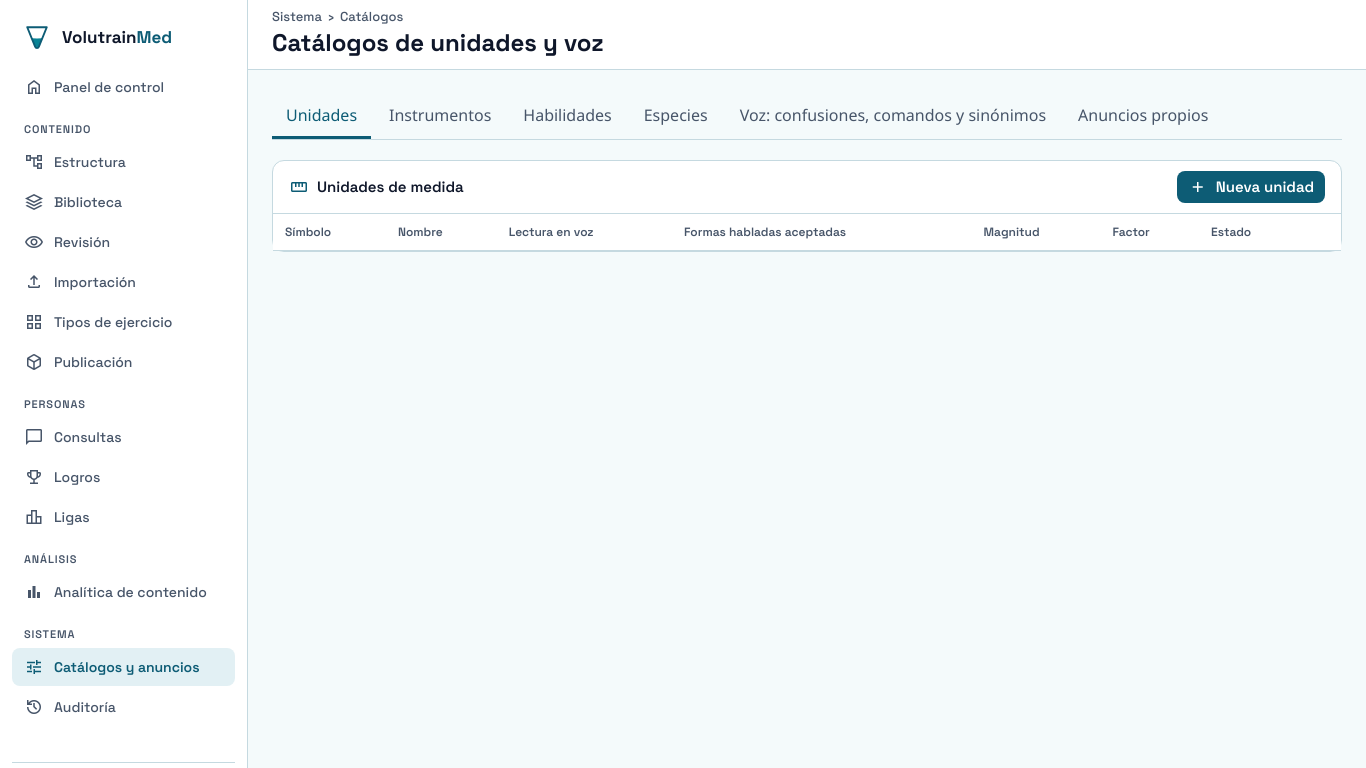
Test: B26 · catálogos de unidades y voz › Texto con alusión clínica: un anuncio que menciona pacientes o guardias no se puede guardar ni enviar a revisión
This screenshot has width=1366, height=768.
Click the tab "Anuncios propios" at (1143, 116), box [1064,94,1222,139]
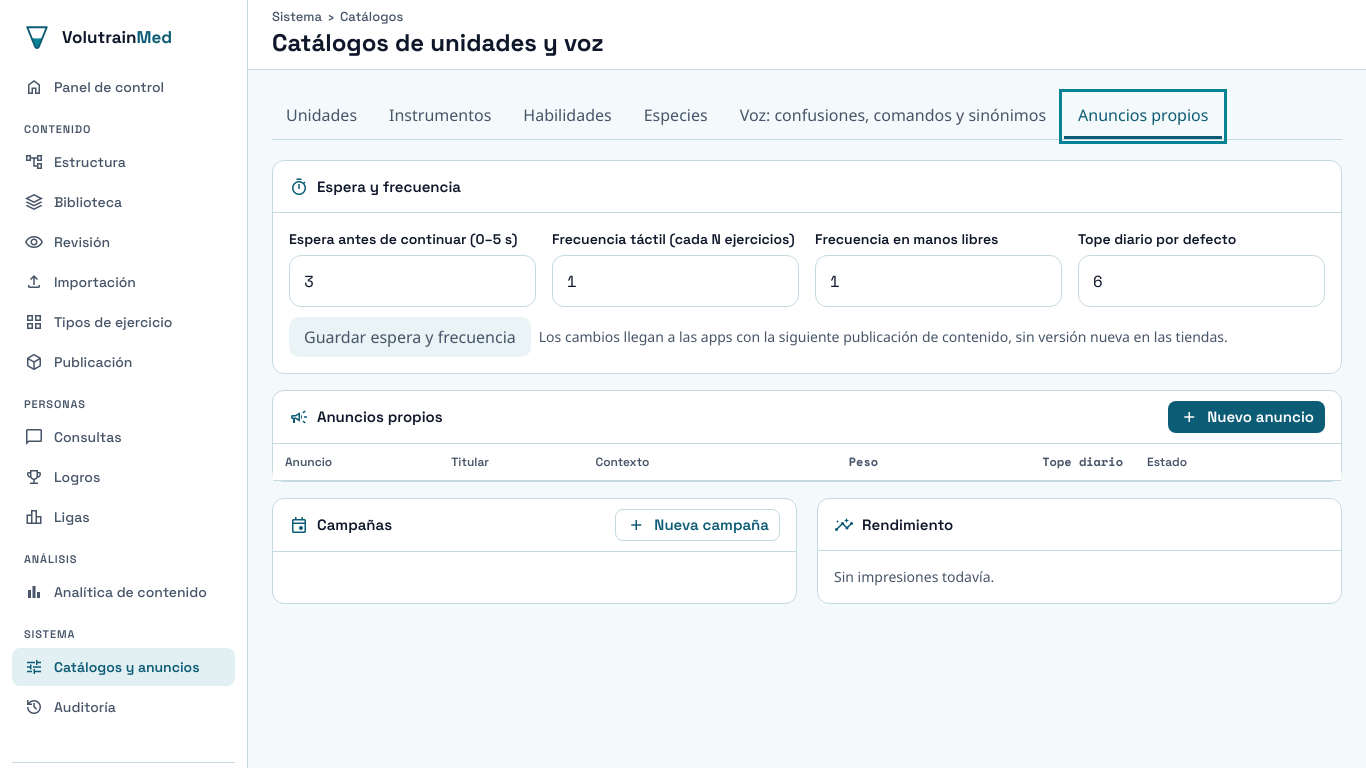
Click the button "Nuevo anuncio" at (1247, 417), box [1168,401,1325,433]
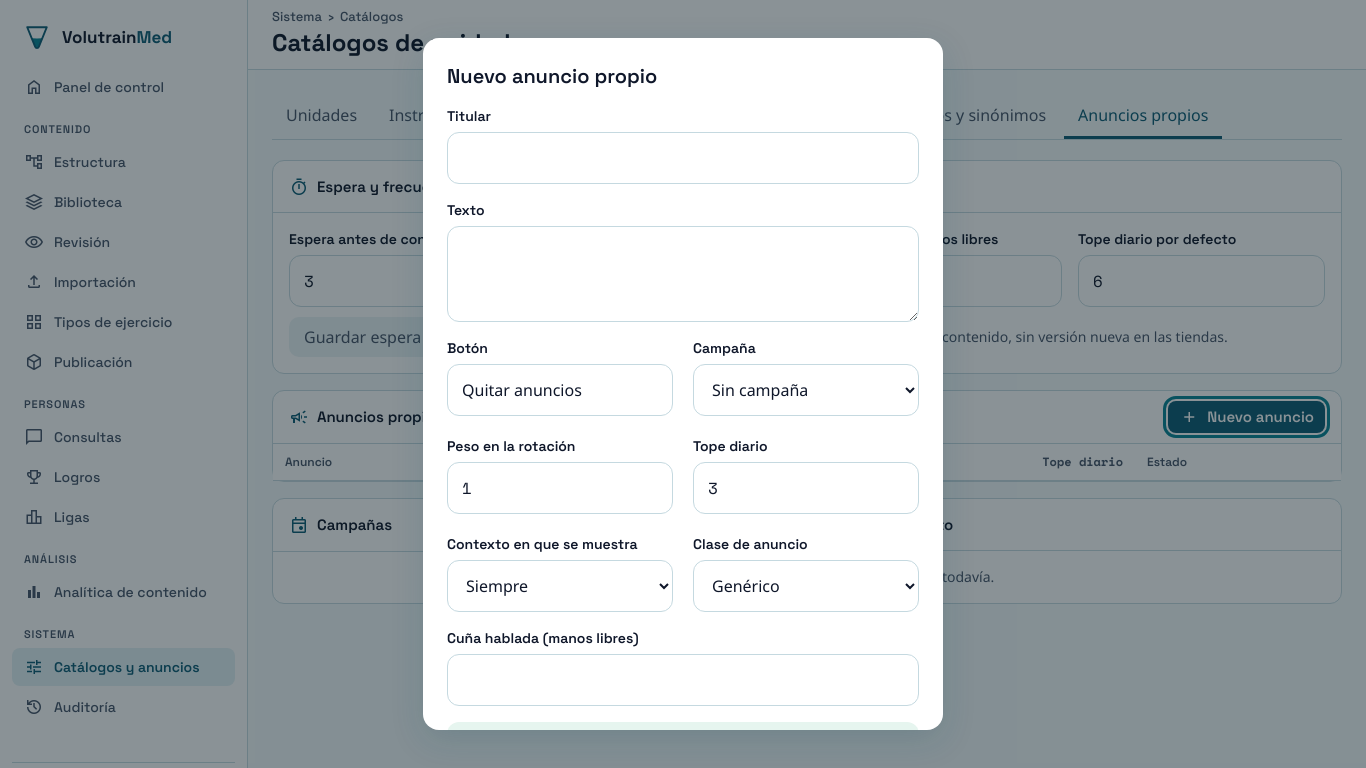
Type "Entrena sin pausas" into the field labelled "Titular" at (683, 158), box [447,132,919,184]
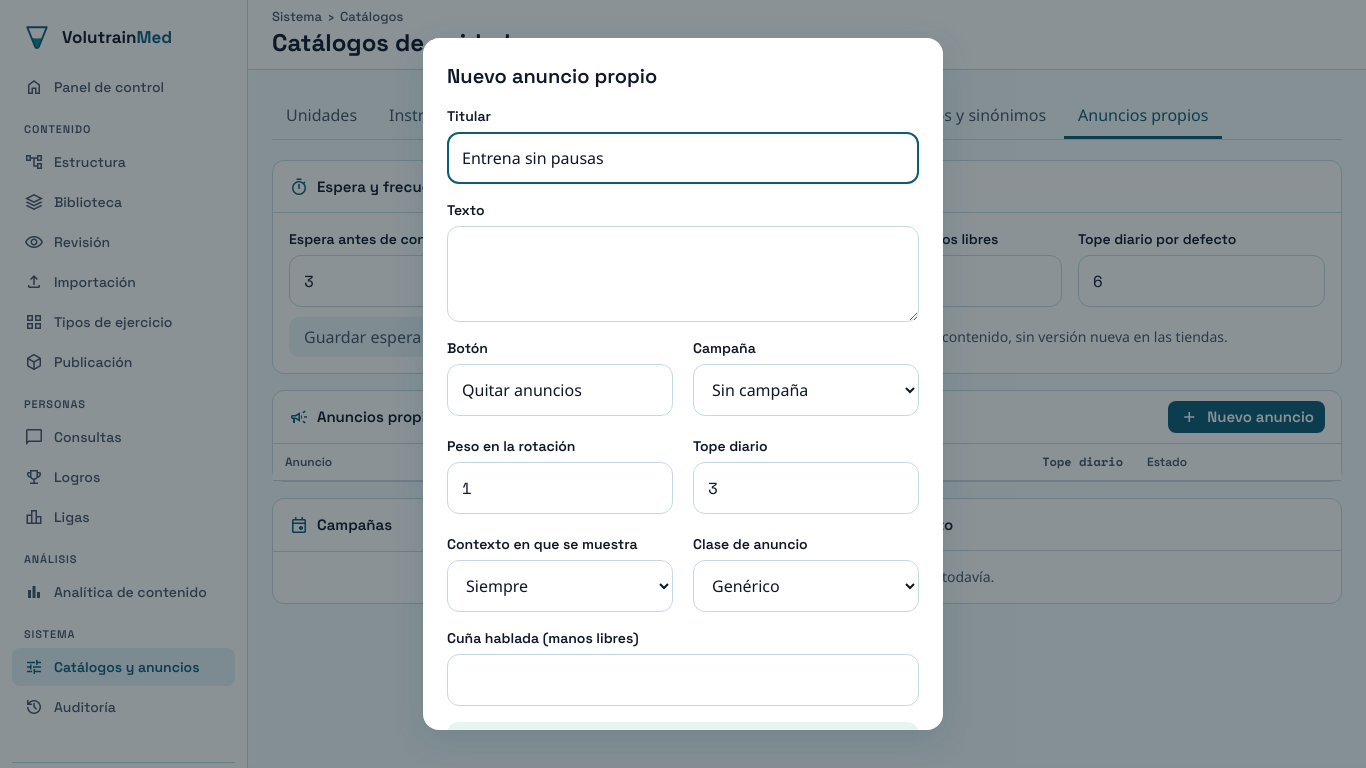
Type "Úsalo en tu guardia con tus pacientes." into the text box labelled "Texto" at (683, 274), box [447,226,919,322]
(page scrolled)
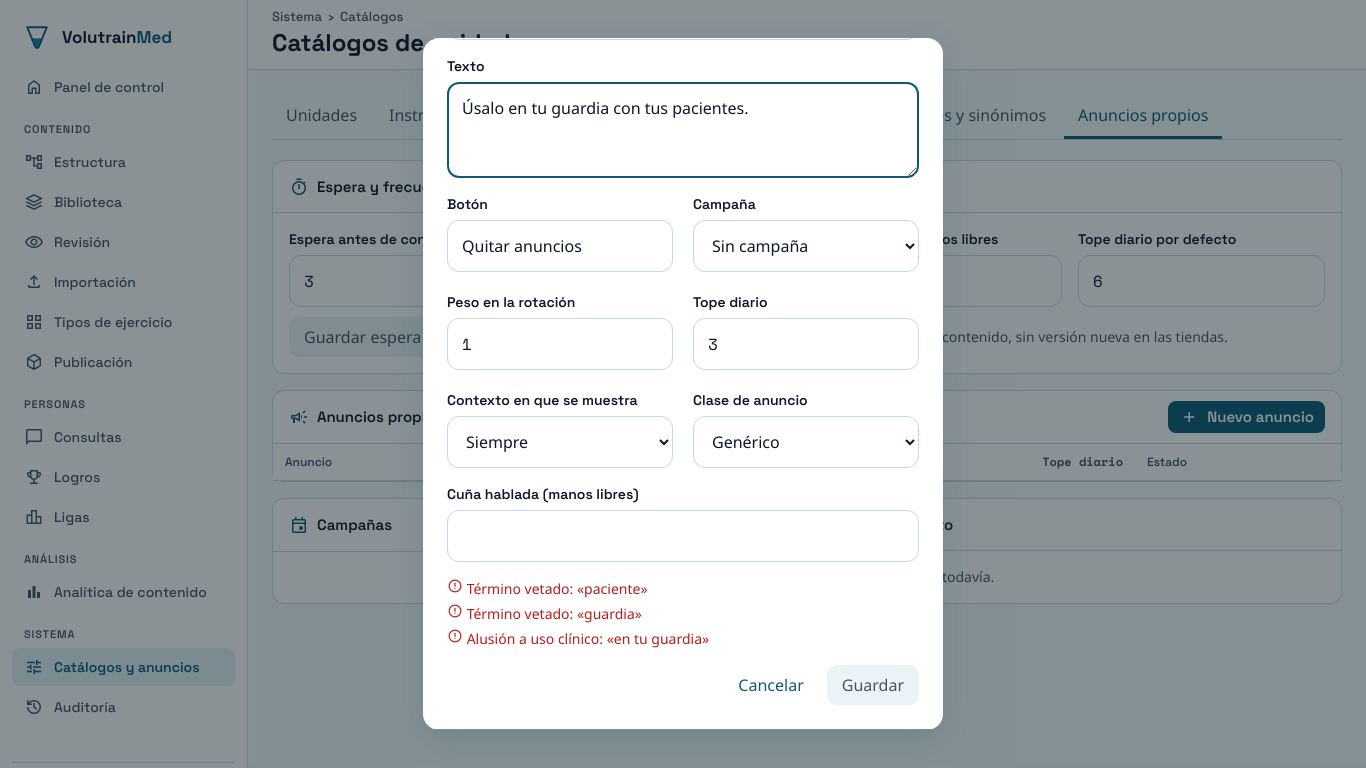
Check: the element named "Comprobaciones del anuncio" shows "Término vetado: «paciente»", box [467,579,648,598]
Check: the element named "Comprobaciones del anuncio" shows "Alusión a uso clínico: «en tu guardia»", box [467,629,709,648]
Check: the button "Guardar" is disabled, box [827,665,919,705]
